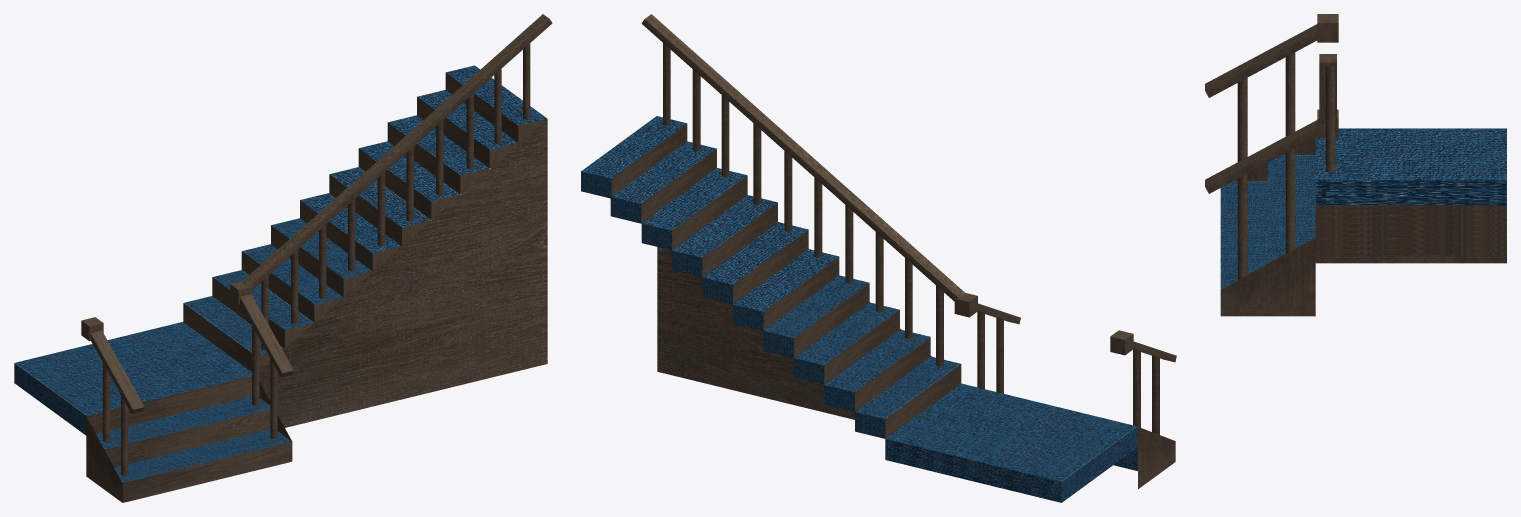
File: escaleras_eriq.obj
The picture shows the model from 3 angles, left to right: view 1: azimuth 30°, elevation 25°; view 2: azimuth 150°, elevation 25°; view 3: azimuth 270°, elevation 25°; orthographic projection. The views are drawn at different scales.
Parts seen in each view (by area): view 1: Cube.012_Cube.013, Cylinder.011, Cube.002, Cube, Cube.001, Cube.003_Cube.004, Cube.010_Cube.011, Cube.009_Cube.010, Cube.008_Cube.009, Cube.005_Cube.006, Cube.006_Cube.007, Cube.011_Cube.012 (+2 smaller); view 2: Cube.002, Cube.012_Cube.013, Cylinder.011, Cube.006_Cube.007, Cube.010_Cube.011, Cube.008_Cube.009, Cube.004_Cube.005, Cube.005_Cube.006, Cube.003_Cube.004, Cube.009_Cube.010, Cube.007_Cube.008, Cube.011_Cube.012; view 3: Cube.012_Cube.013, Cylinder.011, Cube.002, Cube, Cube.001, Cube.003_Cube.004, Cube.005_Cube.006, Cube.004_Cube.005, Cube.007_Cube.008, Cube.008_Cube.009, Cube.009_Cube.010, Cube.006_Cube.007 (+2 smaller).
Boxes of the visible parts, left/top/right/bottom form: Cube.012_Cube.013: left=86, top=65, right=547, bottom=502; Cylinder.011: left=81, top=14, right=552, bottom=475; Cube.002: left=14, top=322, right=251, bottom=435; Cube: left=114, top=429, right=291, bottom=502; Cube.001: left=96, top=396, right=270, bottom=467; Cube.003_Cube.004: left=183, top=296, right=284, bottom=371; Cube.010_Cube.011: left=387, top=115, right=489, bottom=194; Cube.009_Cube.010: left=358, top=141, right=460, bottom=220; Cube.008_Cube.009: left=329, top=167, right=430, bottom=245; Cube.005_Cube.006: left=241, top=244, right=343, bottom=322; Cube.006_Cube.007: left=271, top=218, right=372, bottom=296; Cube.011_Cube.012: left=417, top=90, right=518, bottom=168; Cube.002: left=885, top=383, right=1137, bottom=502; Cube.012_Cube.013: left=581, top=116, right=1175, bottom=488; Cylinder.011: left=641, top=14, right=1176, bottom=438; Cube.006_Cube.007: left=763, top=275, right=869, bottom=357; Cube.010_Cube.011: left=641, top=168, right=747, bottom=250; Cube.008_Cube.009: left=702, top=222, right=808, bottom=304; Cube.004_Cube.005: left=824, top=329, right=930, bottom=411; Cube.005_Cube.006: left=793, top=302, right=899, bottom=384; Cube.003_Cube.004: left=855, top=356, right=961, bottom=438; Cube.009_Cube.010: left=672, top=195, right=777, bottom=277; Cube.007_Cube.008: left=733, top=249, right=839, bottom=331; Cube.011_Cube.012: left=610, top=141, right=716, bottom=223; Cube.012_Cube.013: left=1220, top=137, right=1506, bottom=316; Cylinder.011: left=1205, top=14, right=1338, bottom=279; Cube.002: left=1315, top=128, right=1506, bottom=263; Cube: left=1220, top=181, right=1267, bottom=289; Cube.001: left=1268, top=155, right=1315, bottom=263; Cube.003_Cube.004: left=1315, top=249, right=1506, bottom=255; Cube.005_Cube.006: left=1315, top=237, right=1506, bottom=243; Cube.004_Cube.005: left=1315, top=244, right=1506, bottom=249; Cube.007_Cube.008: left=1315, top=227, right=1506, bottom=232; Cube.008_Cube.009: left=1315, top=221, right=1506, bottom=226; Cube.009_Cube.010: left=1315, top=215, right=1506, bottom=220; Cube.006_Cube.007: left=1315, top=232, right=1506, bottom=237.
Size of the model in its own units: 29.96 by 21.02 by 12.72.
Materials: 1 (1 with a texture image).
